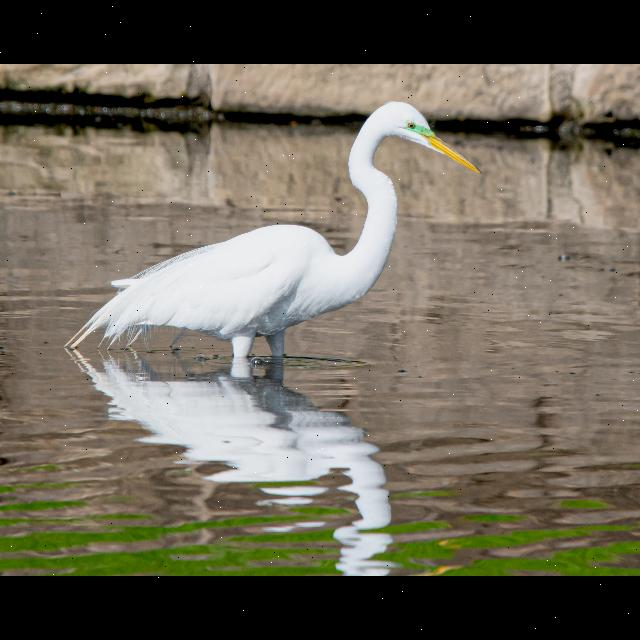egret: (75, 94, 489, 390)
